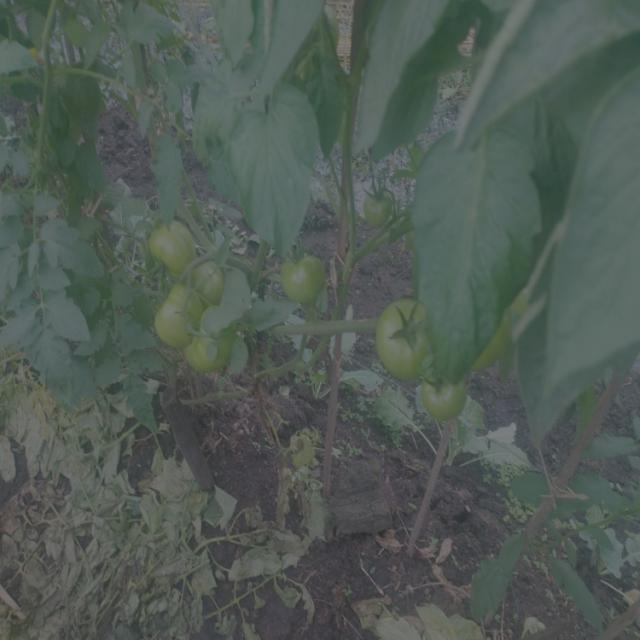tomato: (377, 299, 427, 370), (277, 241, 327, 305), (416, 371, 475, 416), (152, 216, 197, 274), (151, 287, 191, 343), (190, 267, 228, 303), (364, 180, 394, 224), (187, 336, 223, 372)
